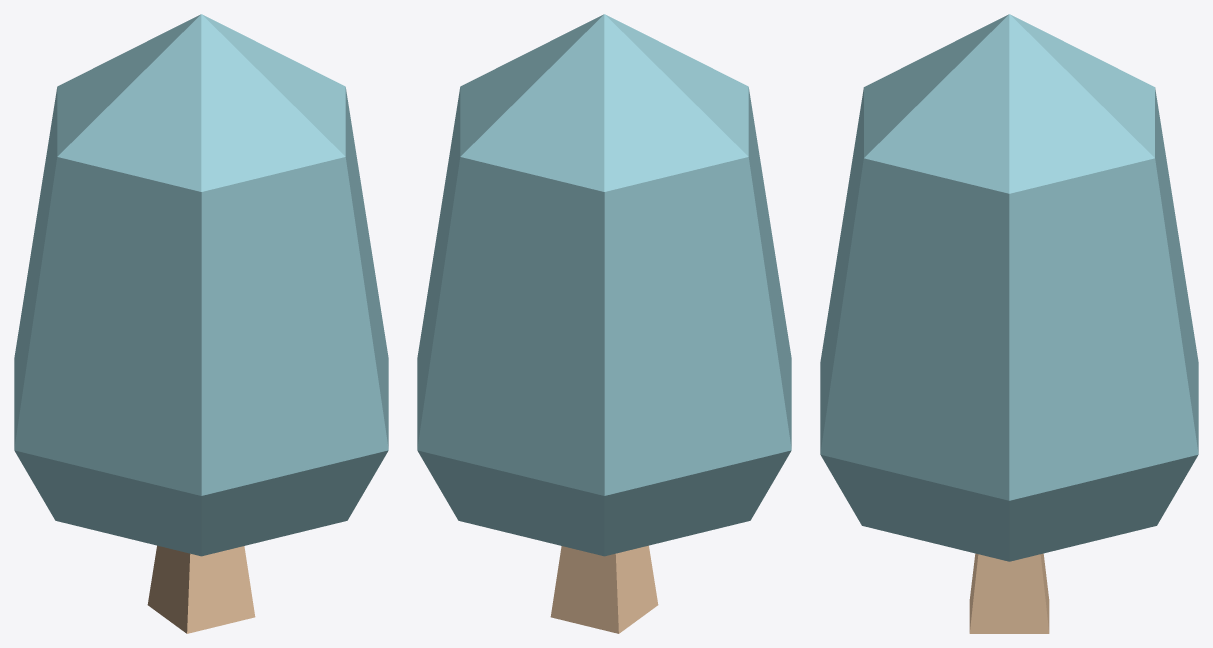
File: tree_short_dark.gltf
The picture shows the model from 3 angles, left to right: view 1: azimuth 30°, elevation 25°; view 2: azimuth 150°, elevation 25°; view 3: azimuth 270°, elevation 25°; orthographic projection.
Visible parts, largest first — view 1: tree_short_dark; view 2: tree_short_dark; view 3: tree_short_dark.
Part boxes in pixels (x1,y1,x2,y2): tree_short_dark: (14, 14, 388, 633); tree_short_dark: (417, 14, 791, 633); tree_short_dark: (820, 14, 1198, 633).
Bounding box in the file's own units: 0.755 × 1.15 × 0.6538.
